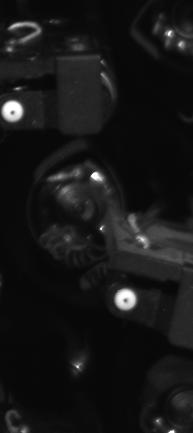fiber: (110, 282, 143, 315), (1, 95, 29, 127)
